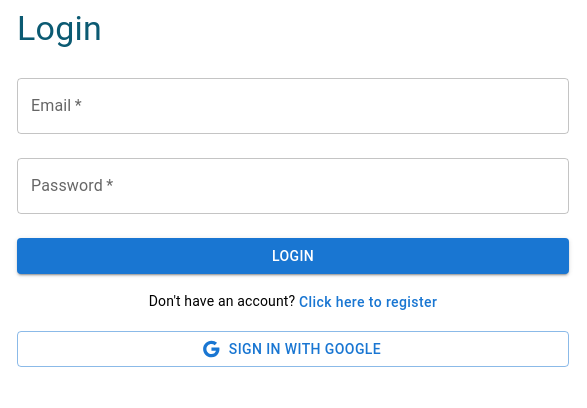
Test case: Login Page › redirects to activation page if account is not active
This screenshot has width=587, height=408.
Step 1. Type "user@example.com" into the field labelled "Email *" → (293, 106), box x1=17 y1=78 x2=569 y2=134
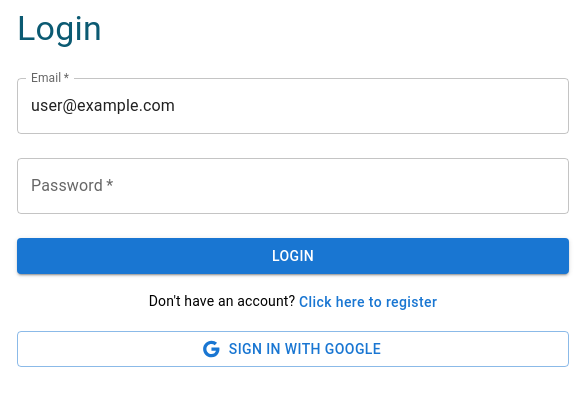
Step 2. Type "password123" into the password field labelled "Password *" → (293, 186), box x1=17 y1=158 x2=569 y2=214
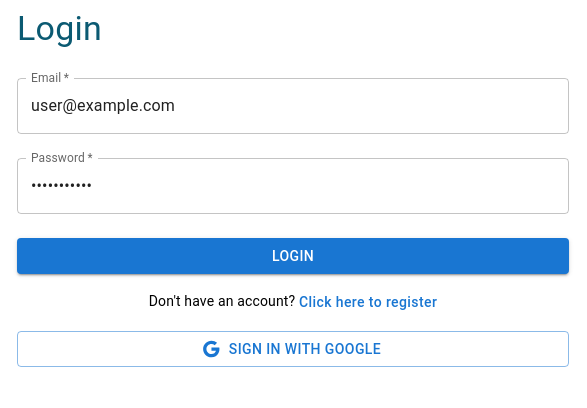
Step 3. Click the button "Login" → (293, 256), box x1=17 y1=238 x2=569 y2=274
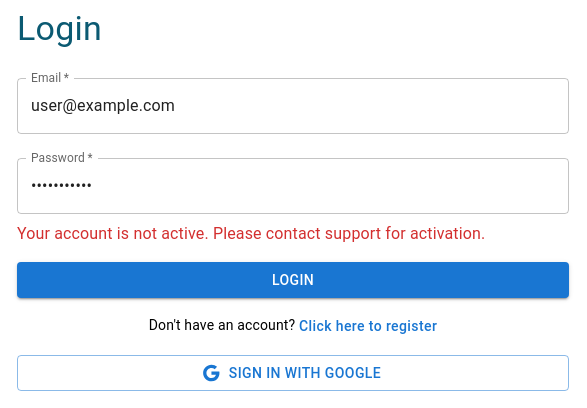
Expected: the text "Your account is not active" is shown, x1=17 y1=224 x2=485 y2=243
